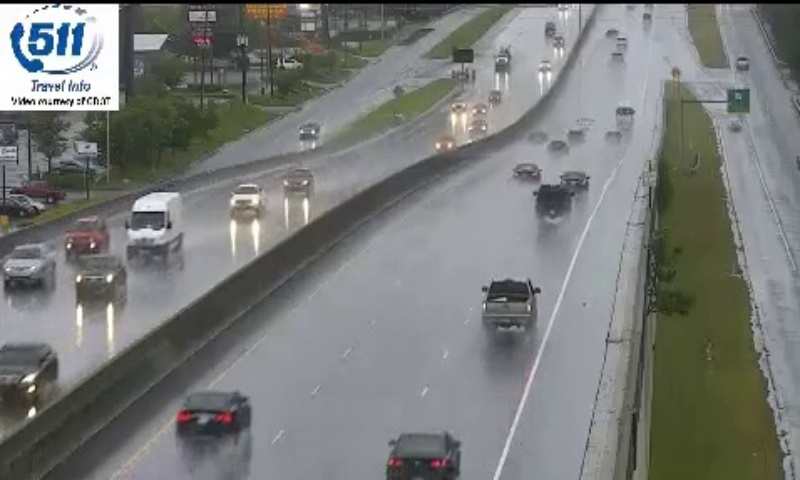car: (388, 434, 461, 480), (177, 394, 251, 438), (483, 278, 535, 331), (535, 184, 572, 219)
